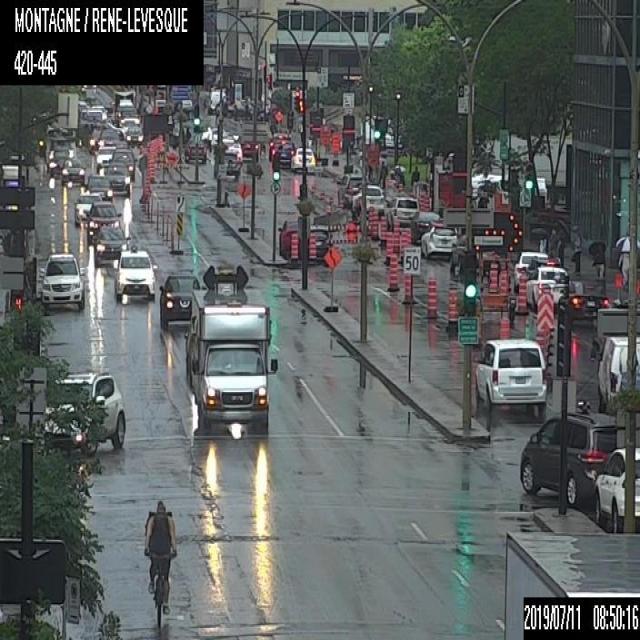construction: (472, 210, 522, 324), (534, 285, 554, 376), (324, 244, 338, 311), (160, 149, 186, 184), (330, 220, 361, 245), (189, 141, 204, 184), (446, 284, 459, 327), (425, 274, 437, 318), (238, 180, 248, 230), (514, 274, 526, 314), (306, 232, 318, 268), (288, 232, 297, 267), (487, 266, 498, 294), (389, 252, 397, 289), (500, 266, 510, 294), (331, 134, 340, 164), (400, 230, 408, 263), (402, 275, 411, 304), (392, 221, 400, 253), (386, 231, 394, 263), (370, 208, 378, 239), (497, 316, 509, 336), (380, 215, 387, 245), (274, 109, 282, 135), (144, 169, 150, 197), (151, 138, 156, 166), (148, 152, 153, 180), (418, 194, 424, 212), (424, 194, 429, 210)
cyclist: (142, 497, 176, 631)
pedestrian: (613, 233, 628, 288), (588, 238, 606, 278), (570, 224, 581, 269), (377, 155, 389, 188), (554, 236, 566, 263), (413, 163, 420, 196)
vehicle: (184, 262, 278, 430), (519, 410, 616, 502), (40, 367, 126, 448), (472, 338, 546, 417), (596, 447, 639, 532), (597, 334, 639, 412), (40, 251, 87, 308), (113, 247, 157, 302), (158, 274, 204, 326), (558, 279, 608, 326), (522, 265, 567, 313), (91, 224, 131, 269), (512, 250, 550, 290), (86, 203, 121, 246), (421, 222, 457, 258), (350, 182, 383, 216), (384, 196, 417, 228), (410, 210, 443, 242), (74, 190, 103, 226), (309, 224, 331, 267), (108, 148, 135, 180), (103, 162, 130, 194), (336, 172, 360, 207), (84, 172, 112, 202), (45, 138, 73, 167), (271, 138, 297, 168), (278, 220, 298, 258), (212, 149, 239, 176), (291, 145, 316, 171), (61, 158, 85, 184), (49, 148, 71, 176), (184, 136, 207, 161), (94, 145, 117, 169), (97, 128, 120, 145), (124, 125, 143, 145), (241, 140, 259, 160), (87, 128, 101, 152)
